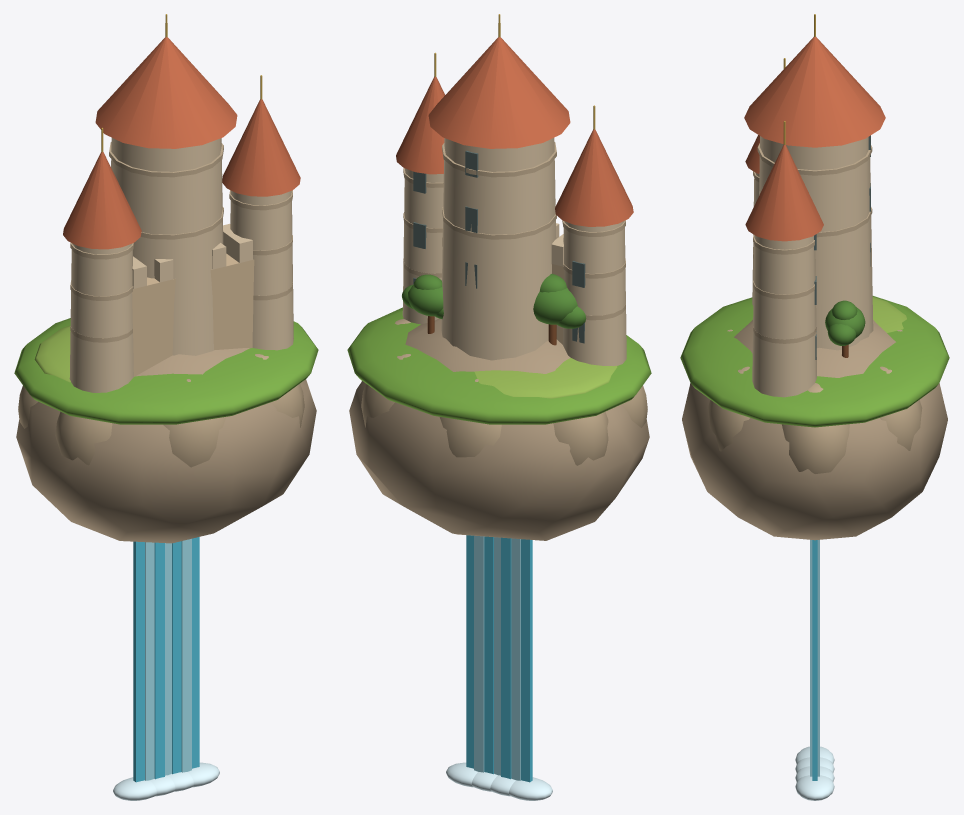
Rendered from louffi-world.glb.
The picture shows the model from 3 angles, left to right: view 1: azimuth 30°, elevation 25°; view 2: azimuth 150°, elevation 25°; view 3: azimuth 270°, elevation 25°; orthographic projection.
Visible parts, largest first — view 1: part (×23); view 2: part (×25); view 3: part (×16).
Boxes of the visible parts, x1,y1,x2,y2 form: part (×23): [14, 37, 318, 800]; part (×25): [347, 37, 651, 800]; part (×16): [680, 37, 949, 800].
Size of the model in its own units: 10.3 by 27.98 by 8.9.
